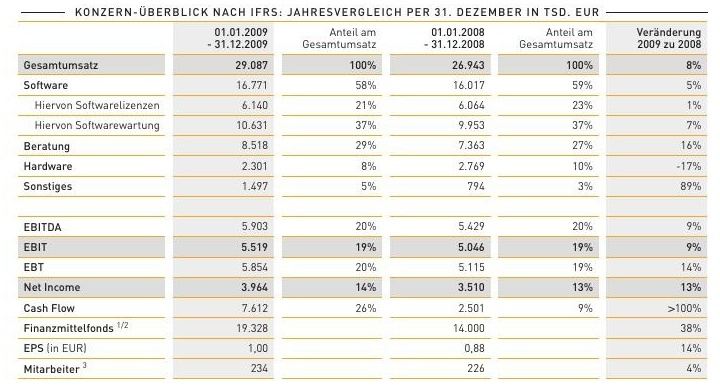table: (0, 0, 720, 390)
